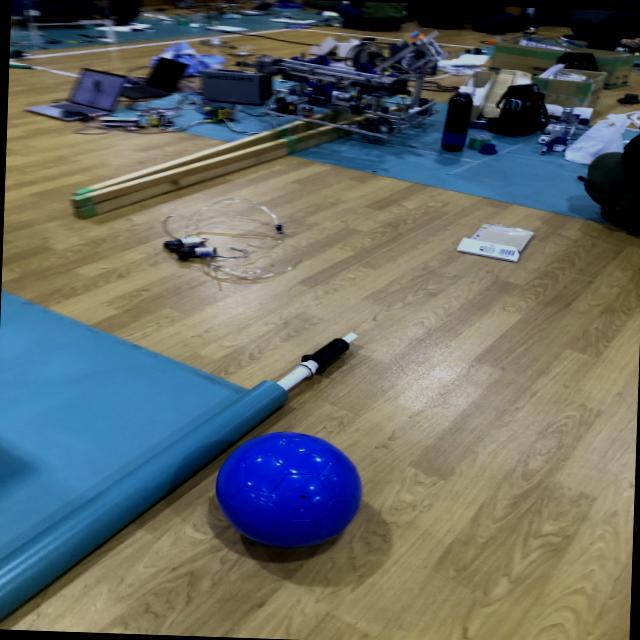blue_ball: (216, 429, 364, 546)
